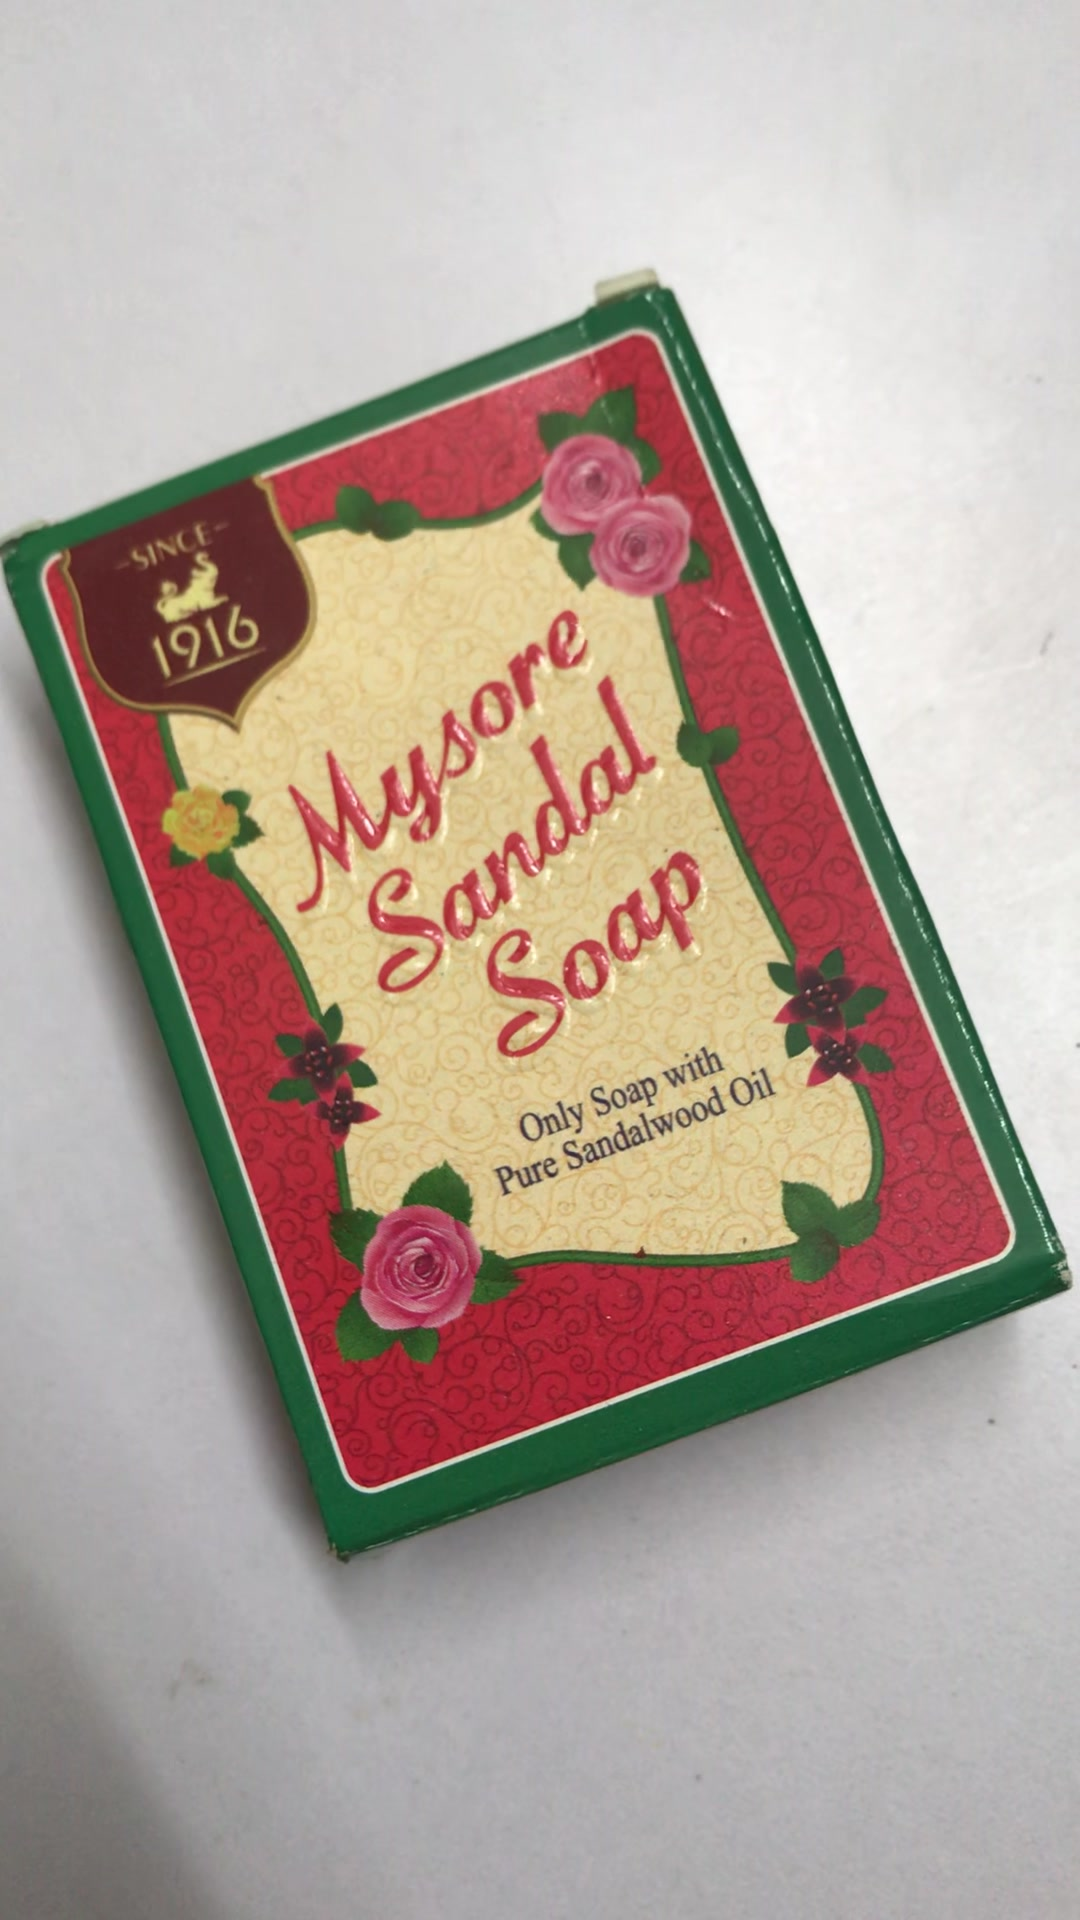mysore sandal soap: (1, 284, 1063, 1565)
